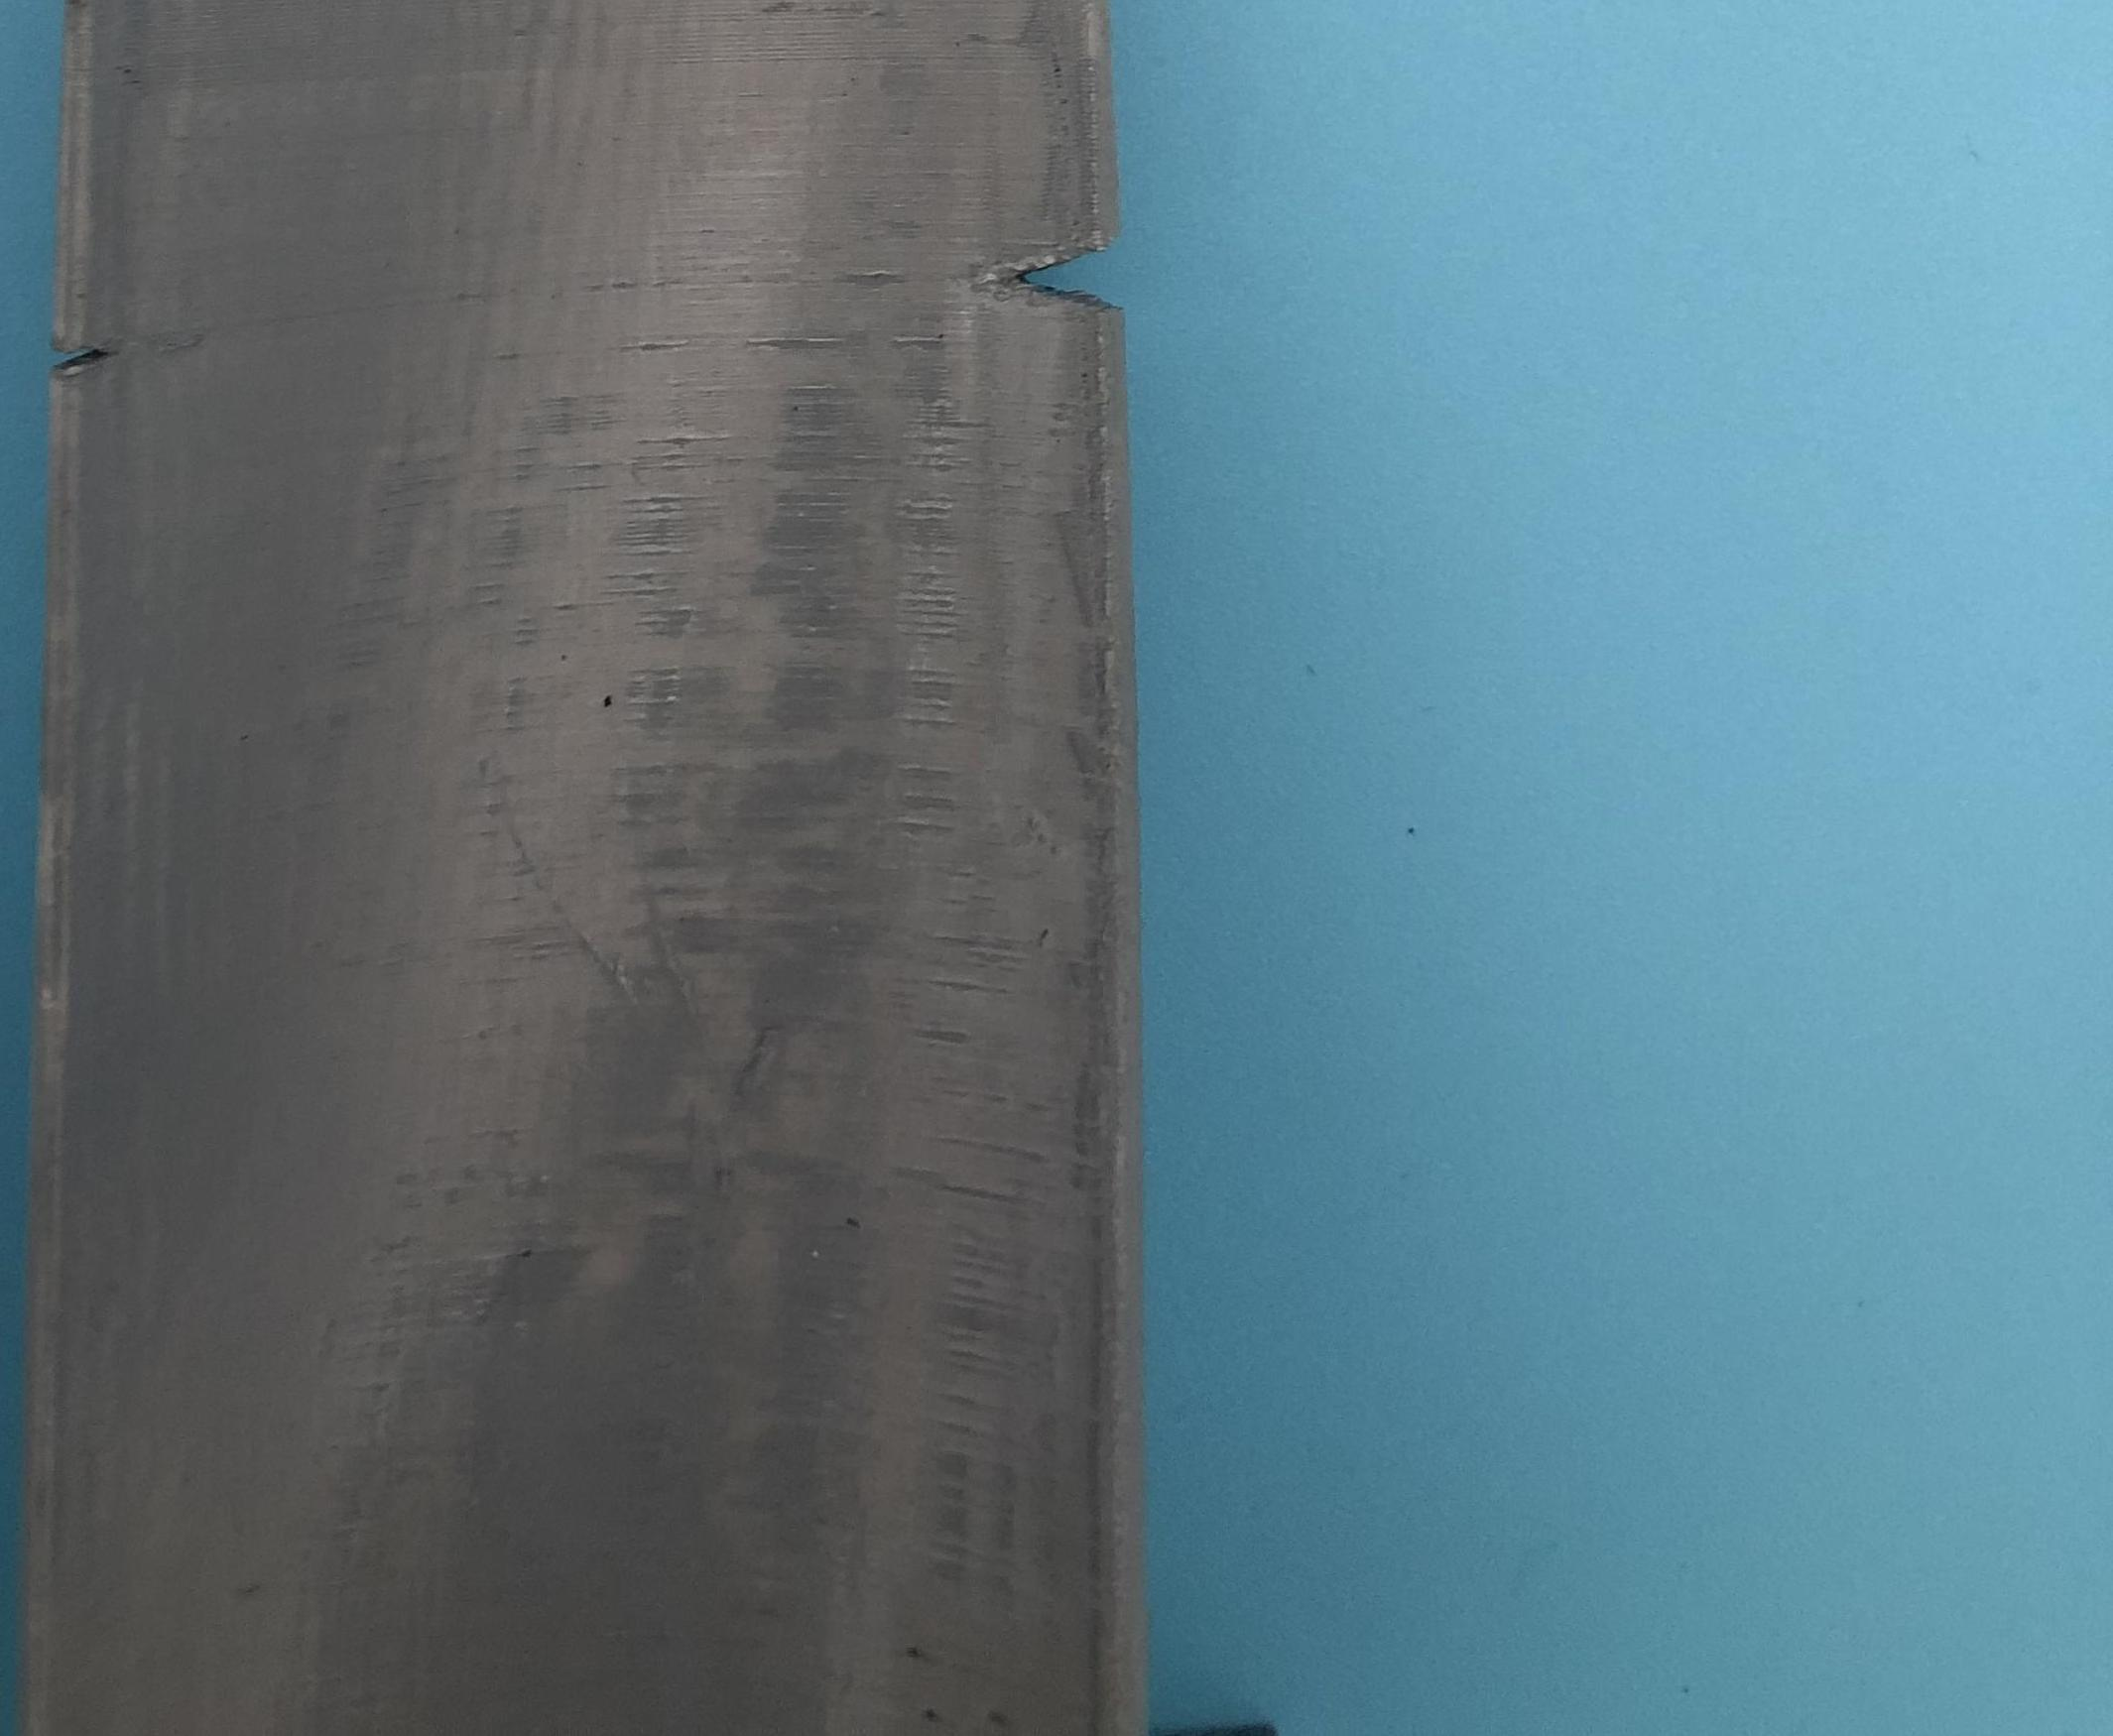groove: (1013, 223, 1121, 335), (53, 314, 125, 405)
